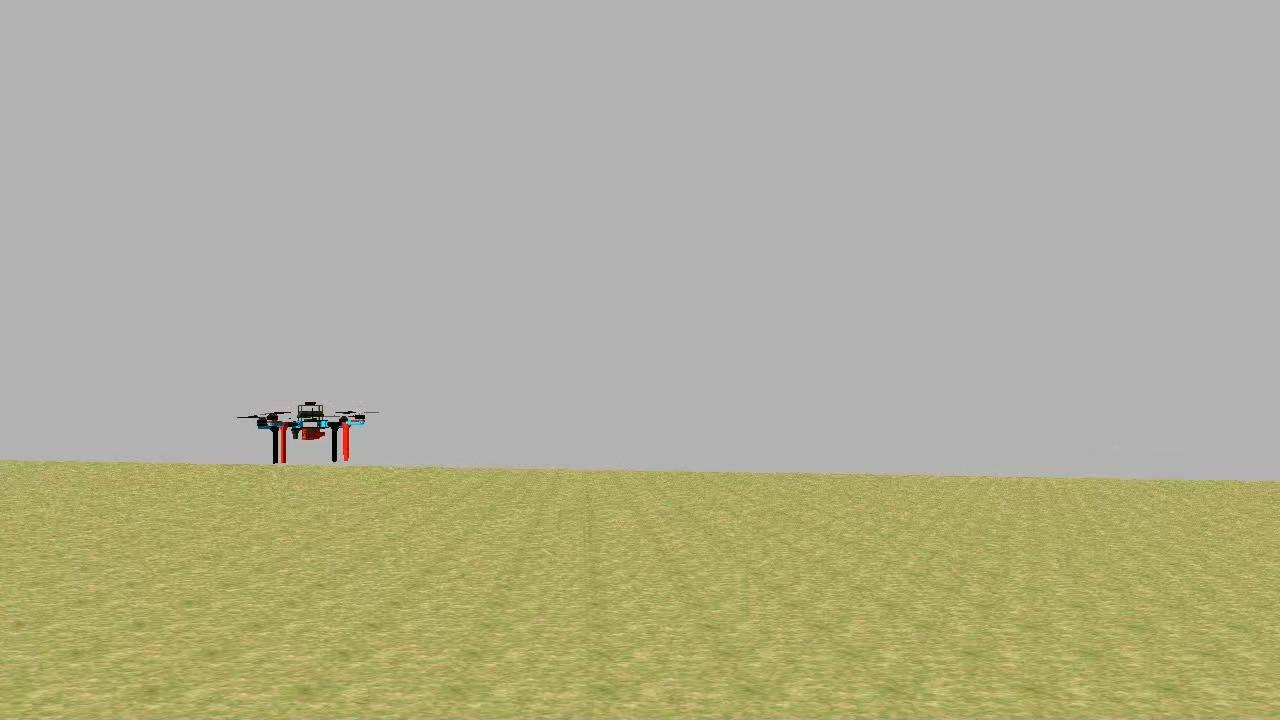UAV: (250, 396, 370, 470)
